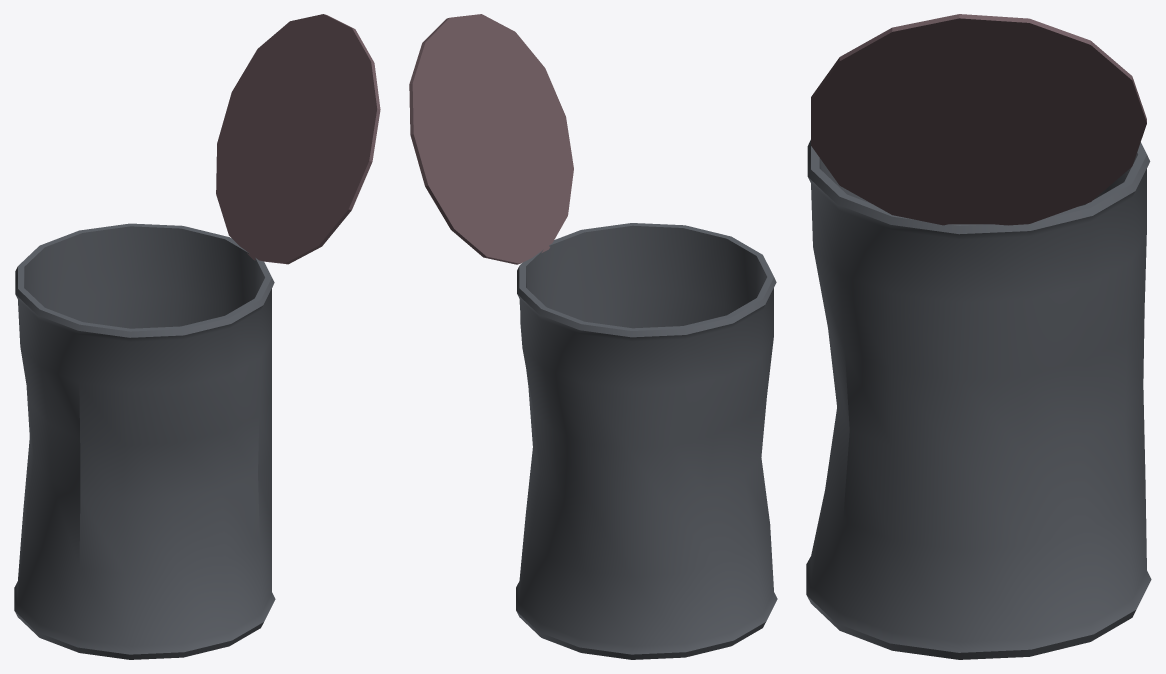
Rendered from blik.fbx.
3 views of the same model, side by side, from view 1: azimuth 30°, elevation 25°; view 2: azimuth 150°, elevation 25°; view 3: azimuth 270°, elevation 25° (orthographic). The views are drawn at different scales.
Parts seen in each view (by area): view 1: Cylinder.005, Cylinder.006; view 2: Cylinder.005, Cylinder.006; view 3: Cylinder.005, Cylinder.006.
Part boxes in pixels (x1,y1,x2,y2): Cylinder.005: (14, 223, 275, 659); Cylinder.006: (216, 14, 380, 264); Cylinder.005: (516, 223, 777, 659); Cylinder.006: (409, 14, 573, 264); Cylinder.005: (806, 140, 1151, 659); Cylinder.006: (811, 14, 1146, 225).
Size of the model in its own units: 56.09 by 89.61 by 39.78.
